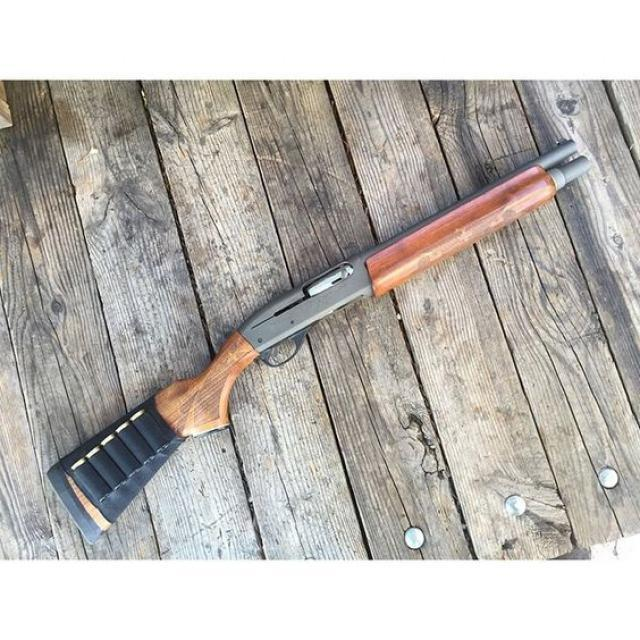shotgun: (19, 132, 616, 556)
